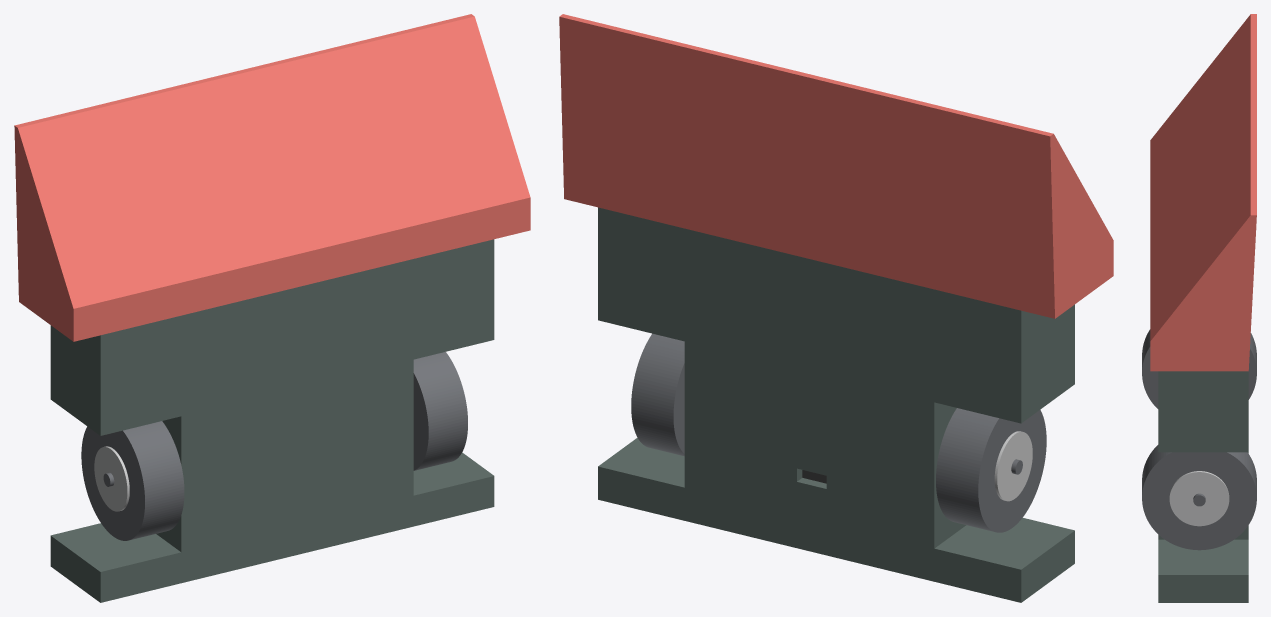
File: mini_e.glb
3 renders of one model, left to right at view 1: azimuth 30°, elevation 25°; view 2: azimuth 150°, elevation 25°; view 3: azimuth 270°, elevation 25°, orthographic. The views are drawn at different scales.
Parts seen in each view (by area): view 1: wedge, chassis, wheel_r0, wheel_l0, dt_hub_wheel_r0; view 2: chassis, wedge, wheel_r0, wheel_l0, dt_hub_wheel_r0; view 3: wedge, chassis, wheel_l0, dt_hub_wheel_l0, wheel_r0.
Boxes of the visible parts, x1,y1,x2,y2 form: wedge: (14, 14, 530, 341); chassis: (50, 239, 494, 602); wheel_r0: (81, 421, 184, 540); wheel_l0: (413, 352, 467, 470); dt_hub_wheel_r0: (94, 446, 129, 511); chassis: (598, 207, 1074, 602); wedge: (559, 14, 1113, 318); wheel_r0: (936, 408, 1046, 532); wheel_l0: (631, 333, 684, 456); dt_hub_wheel_r0: (994, 431, 1032, 501); wedge: (1150, 14, 1256, 371); chassis: (1158, 371, 1248, 602); wheel_l0: (1142, 445, 1256, 550); dt_hub_wheel_l0: (1169, 471, 1229, 526); wheel_r0: (1142, 329, 1256, 408).
Size of the model in its own units: 116 by 108 by 28.
